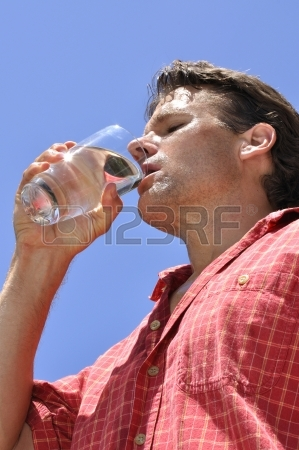glass of water: (14, 117, 152, 226)
